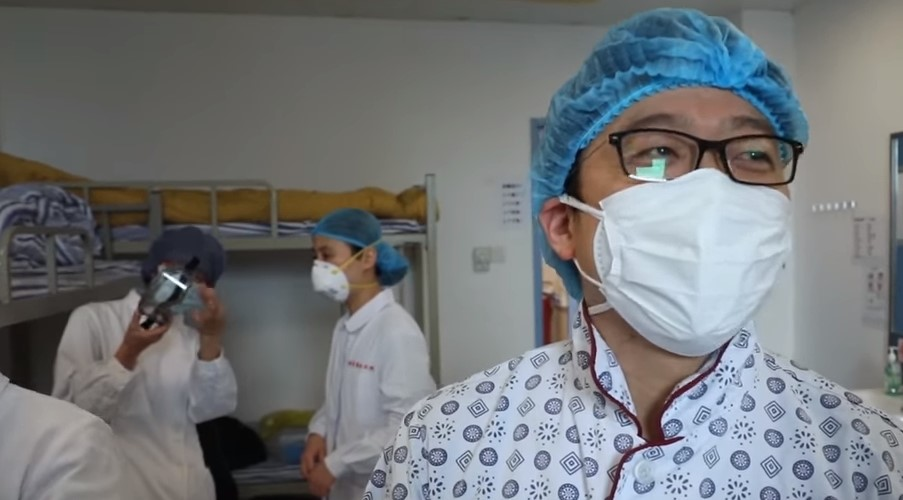face_with_mask: (527, 10, 793, 351), (311, 207, 410, 304)
